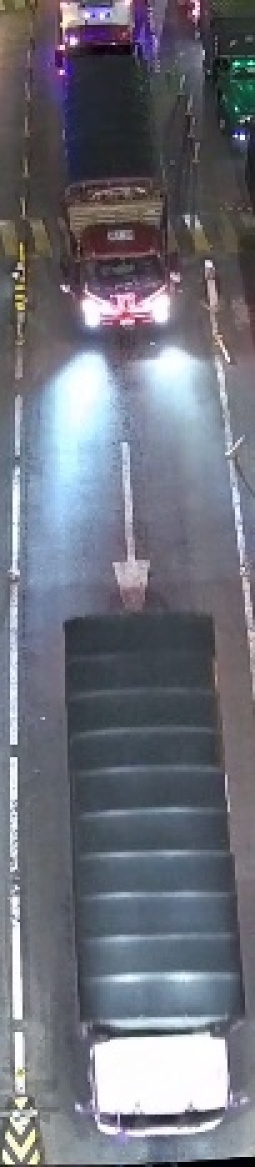truck: (61, 615, 242, 1140), (52, 59, 179, 332), (59, 0, 142, 49)
